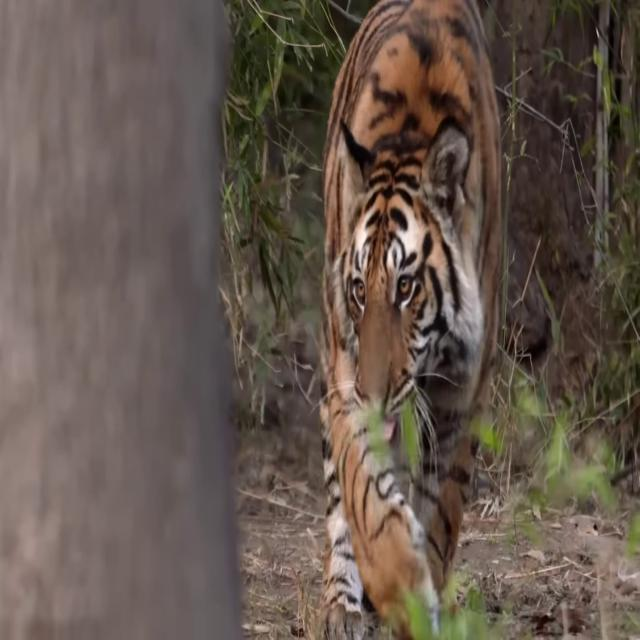tiger: (318, 0, 504, 640)
